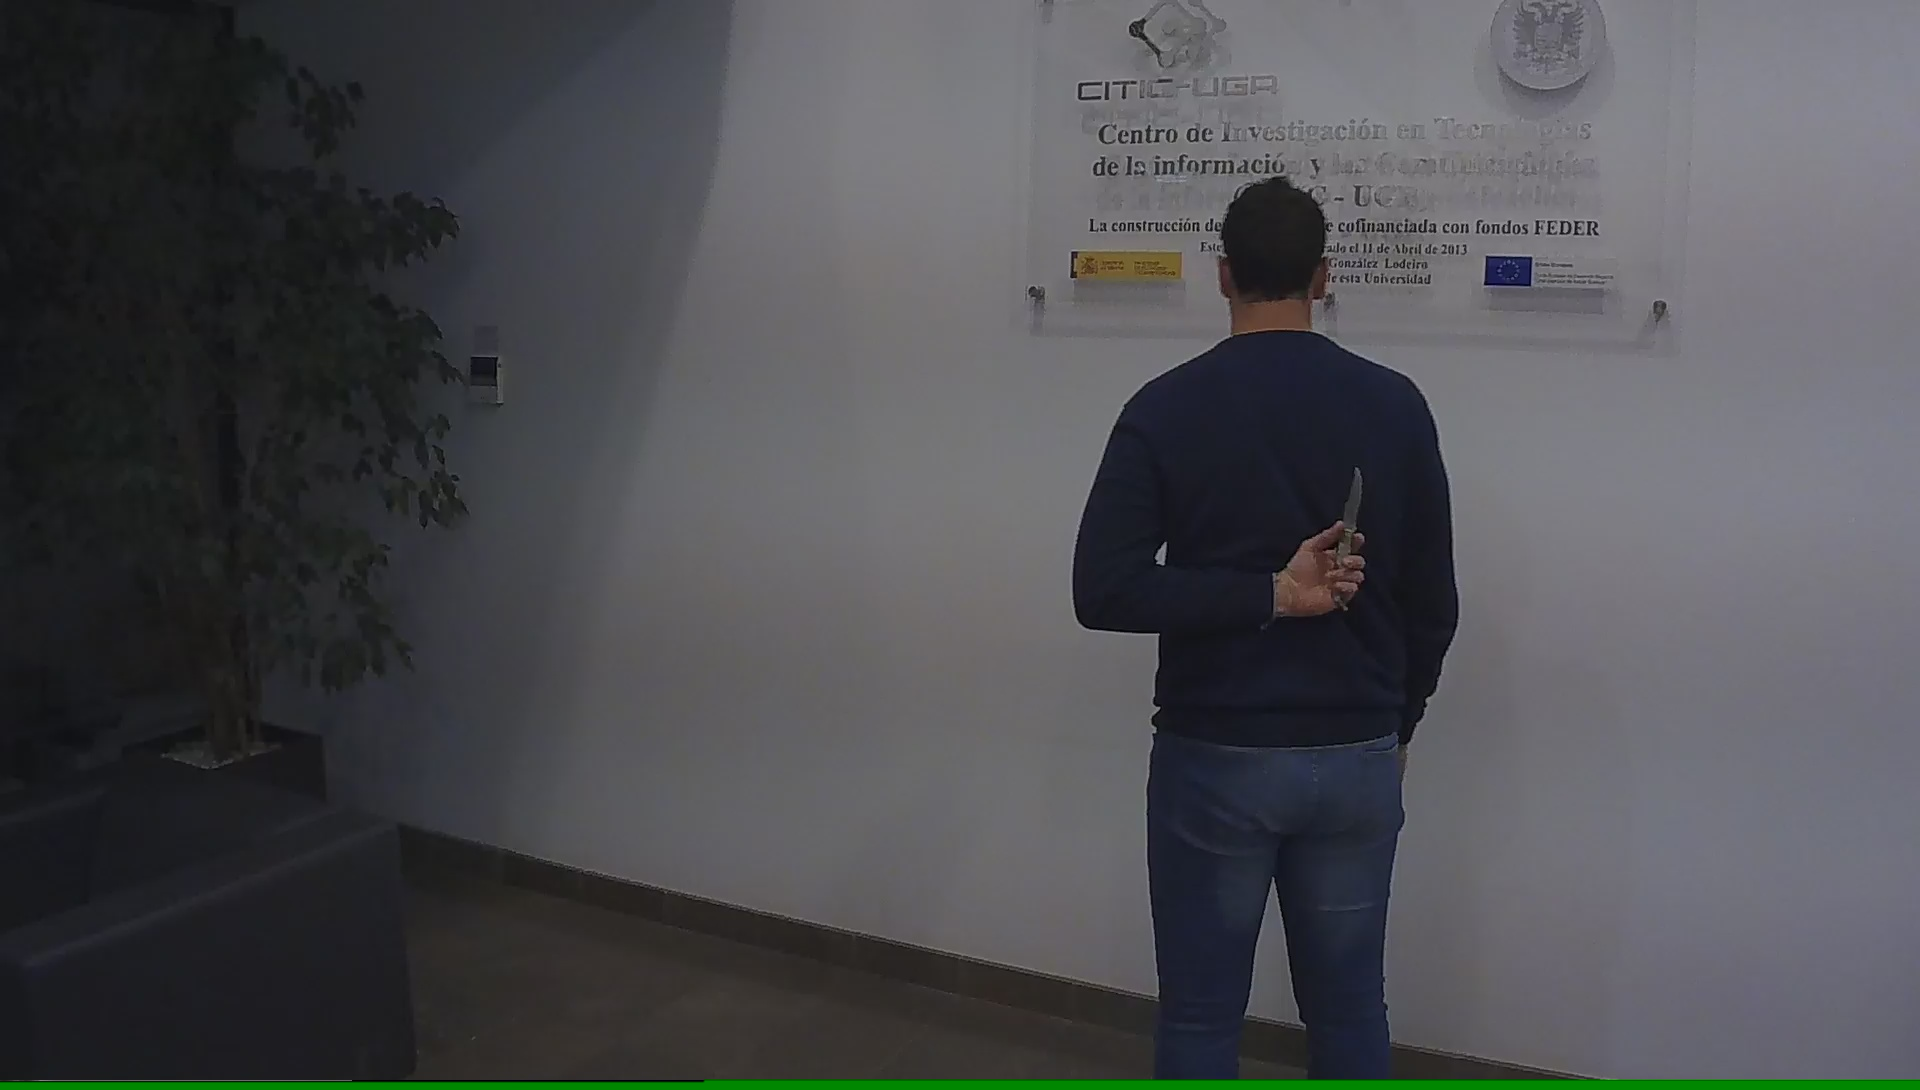knife: (1316, 451, 1377, 618)
